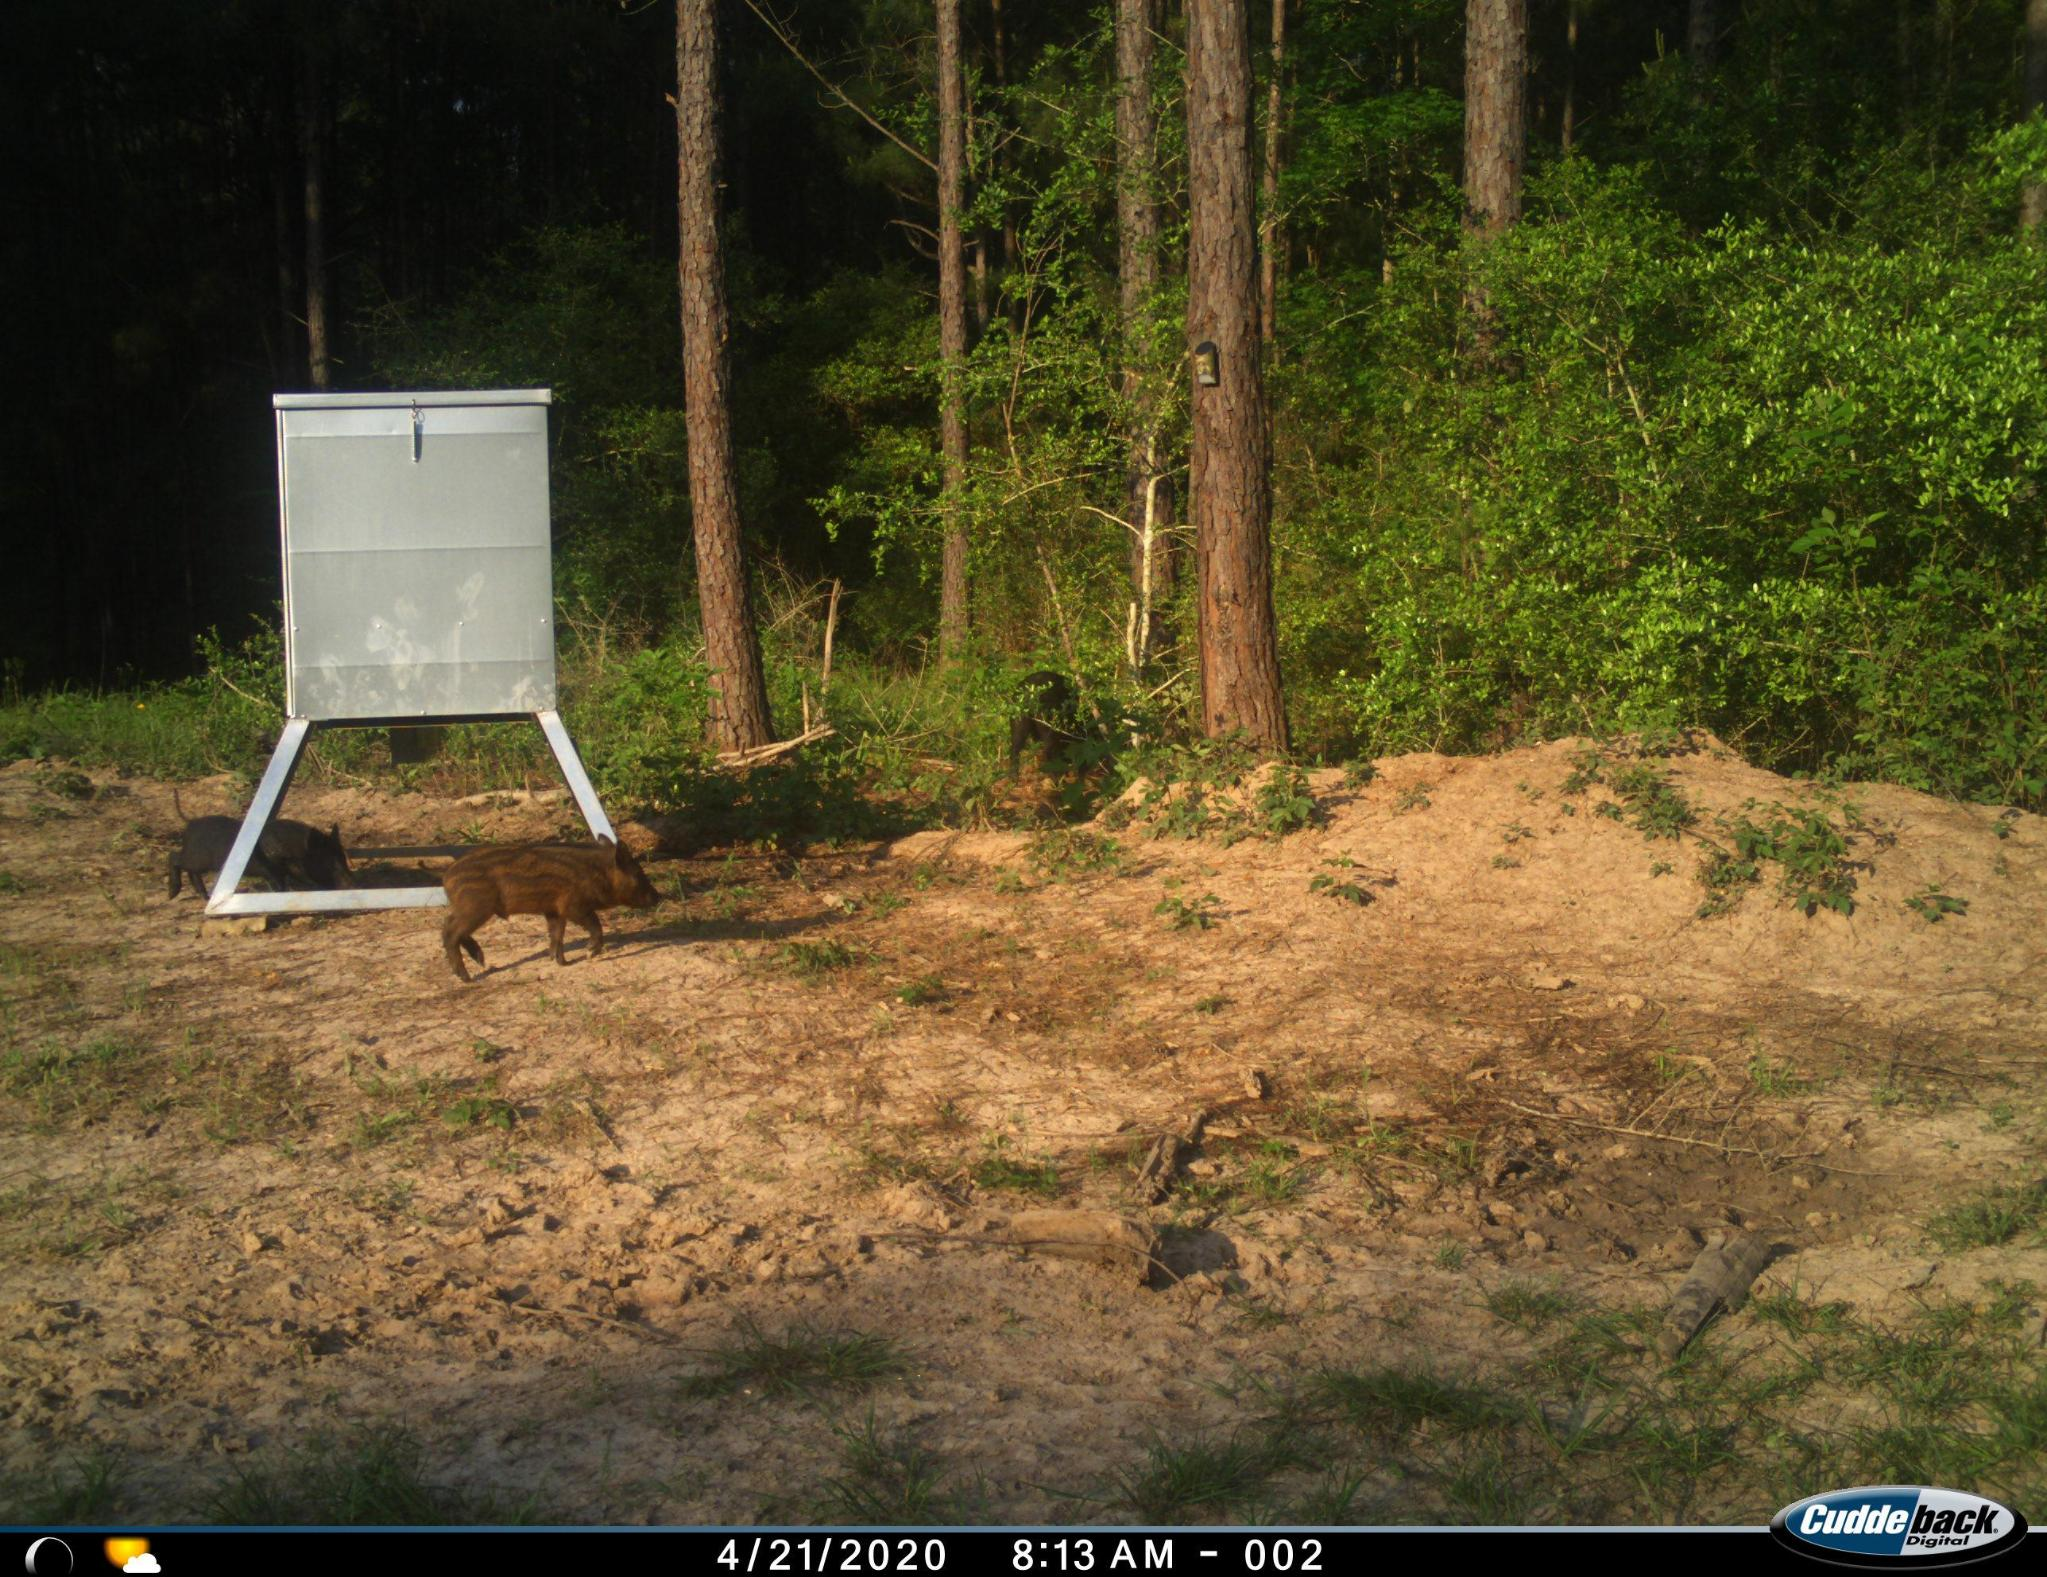Hog: (431, 830, 664, 981), (156, 779, 369, 919)
